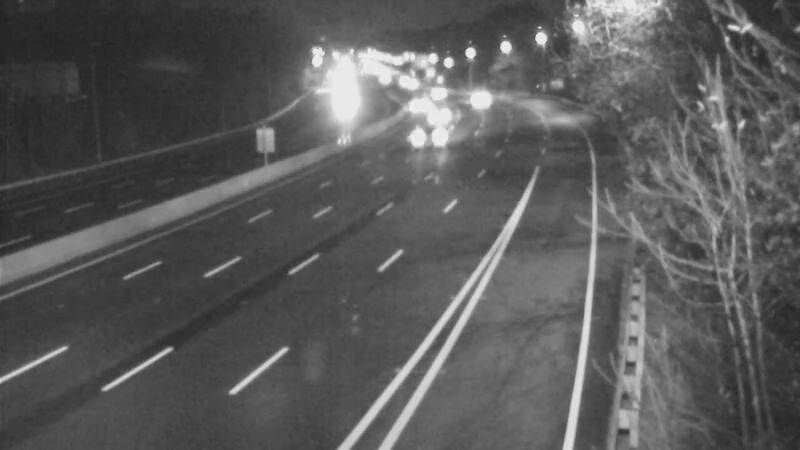vehicle: (413, 65, 463, 115), (458, 72, 508, 122), (392, 78, 442, 128), (415, 84, 465, 134), (403, 111, 453, 161)
